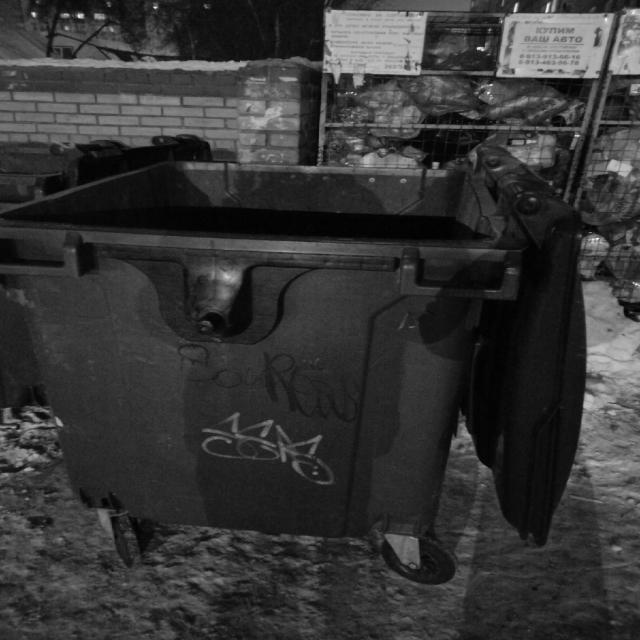Trashcan: (0, 102, 617, 600)
